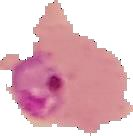parasitized: (15, 60, 81, 121)
